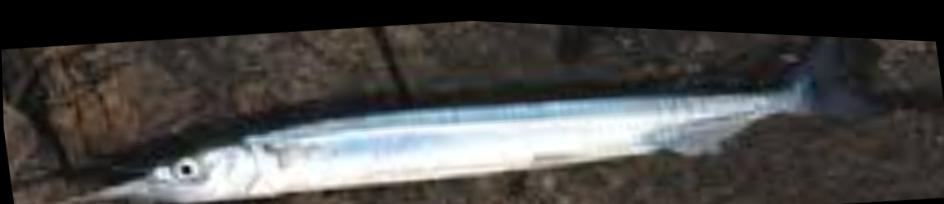fish: (86, 28, 883, 203)
